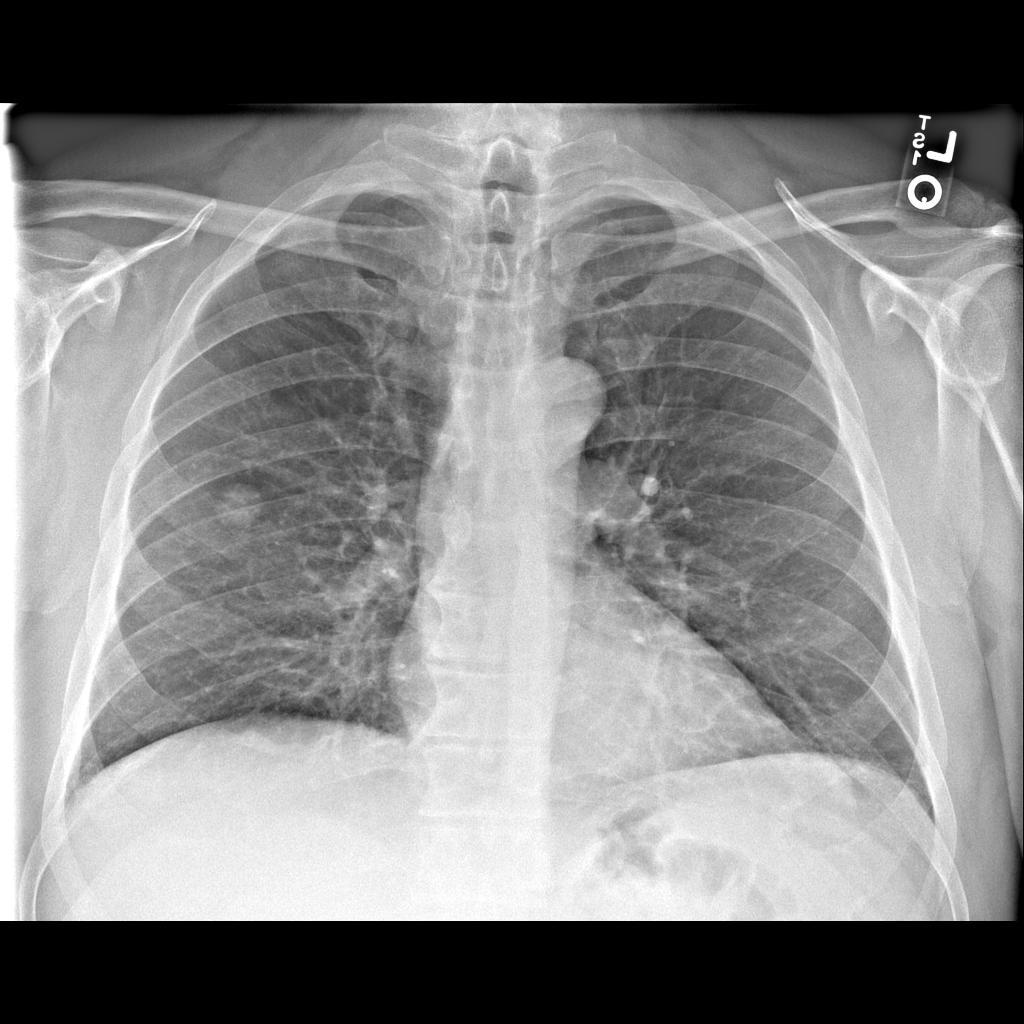Nodule: (213, 476, 272, 535)
